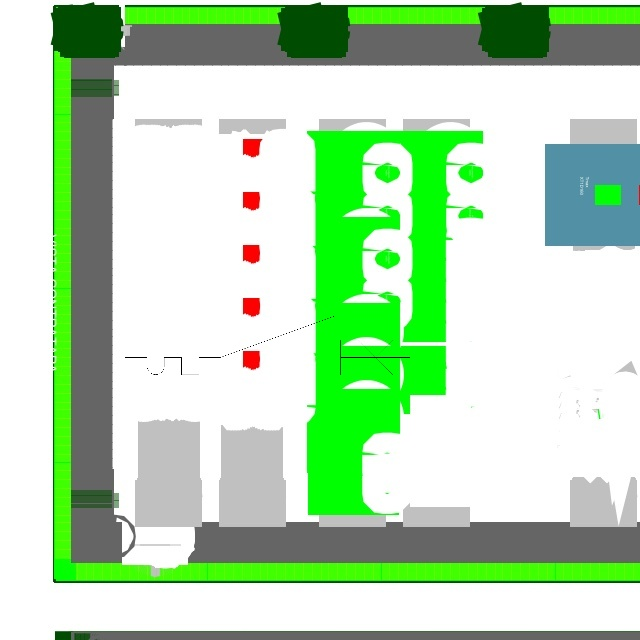interruptor_termomagnetico: (118, 309, 417, 382)
